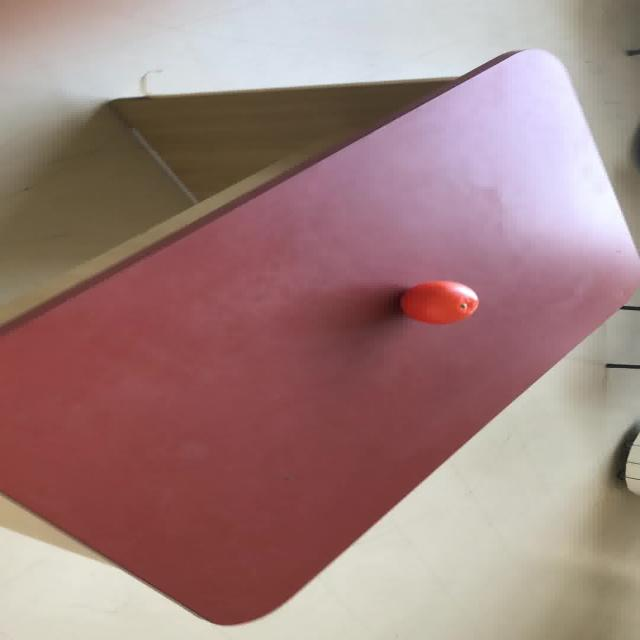orange: (398, 280, 478, 324)
